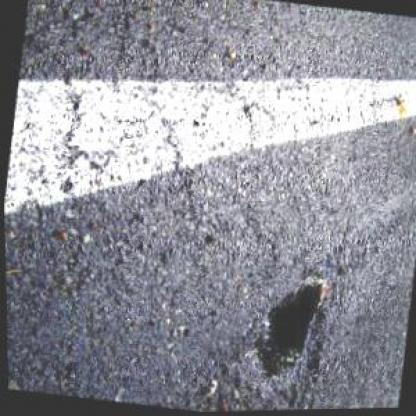pothole: (220, 265, 340, 405)
